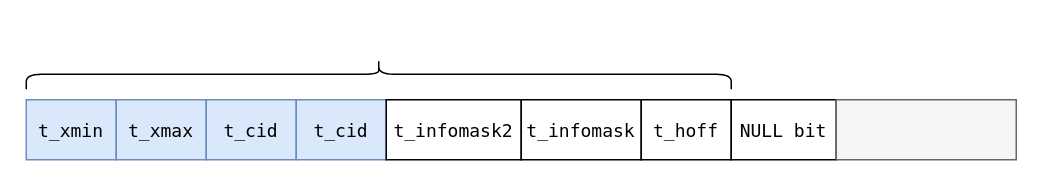
The diagram is 1043 pixels wide and 186 high, and some of its shapes have lost their labels. The centre of each missing label's shape, as x and y in pixels:
"HeapTupleHeaderData" belongs at [378,73].
"User data" belongs at [925,129].
